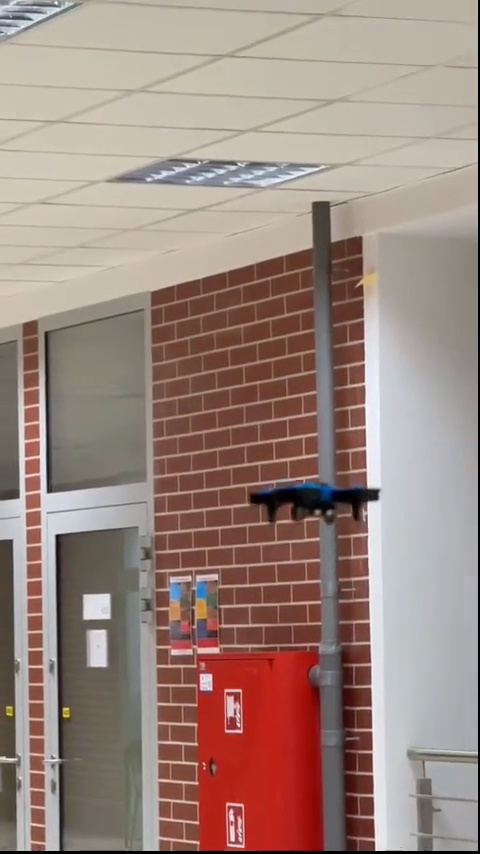drone: (251, 480, 378, 520)
